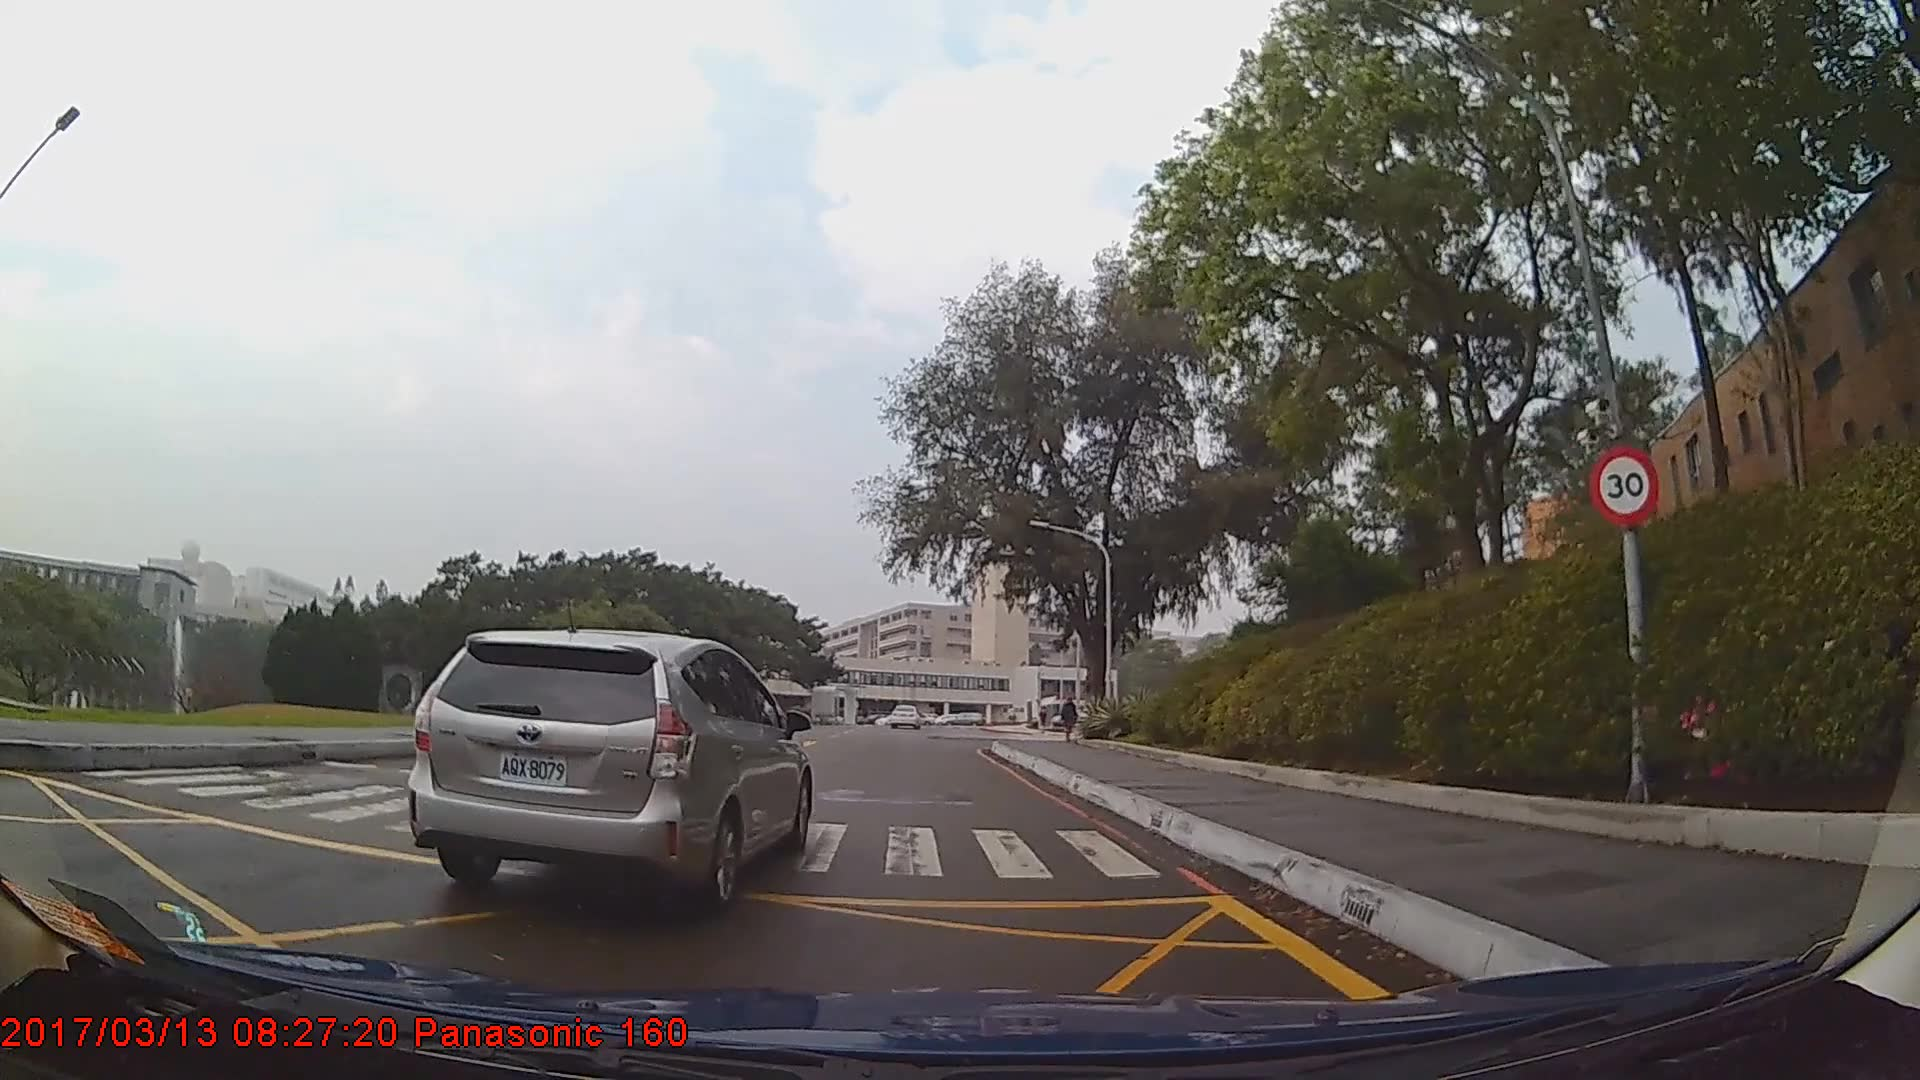pedestrian: (1060, 696, 1080, 744)
vehicle: (402, 625, 810, 909), (887, 704, 919, 731)
